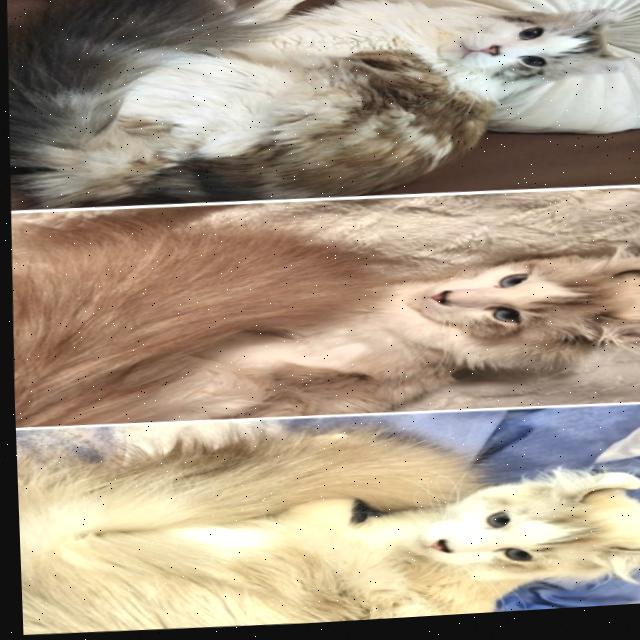American Curl: (6, 184, 640, 439), (13, 411, 640, 640), (1, 0, 640, 222)
